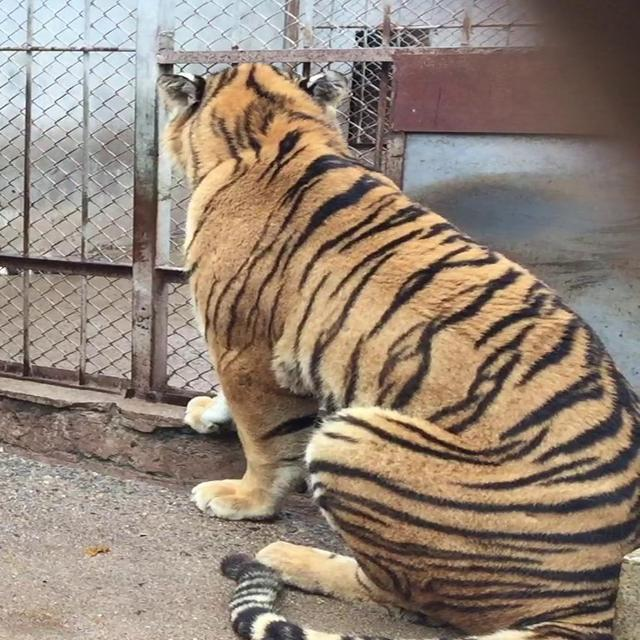tiger: (139, 53, 640, 640)
